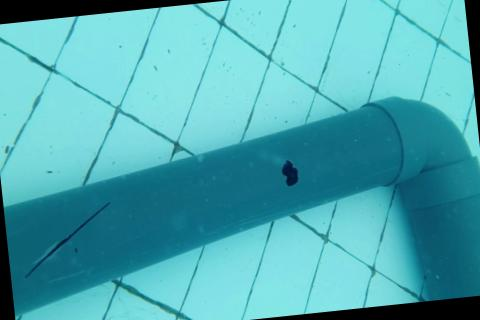kebocoran: (280, 157, 301, 189)
keretakan: (16, 199, 118, 279)
